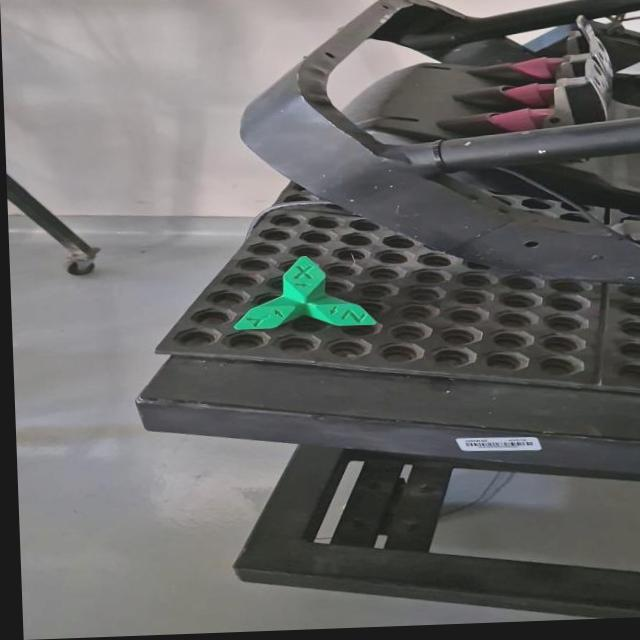eje: (229, 252, 379, 331)
